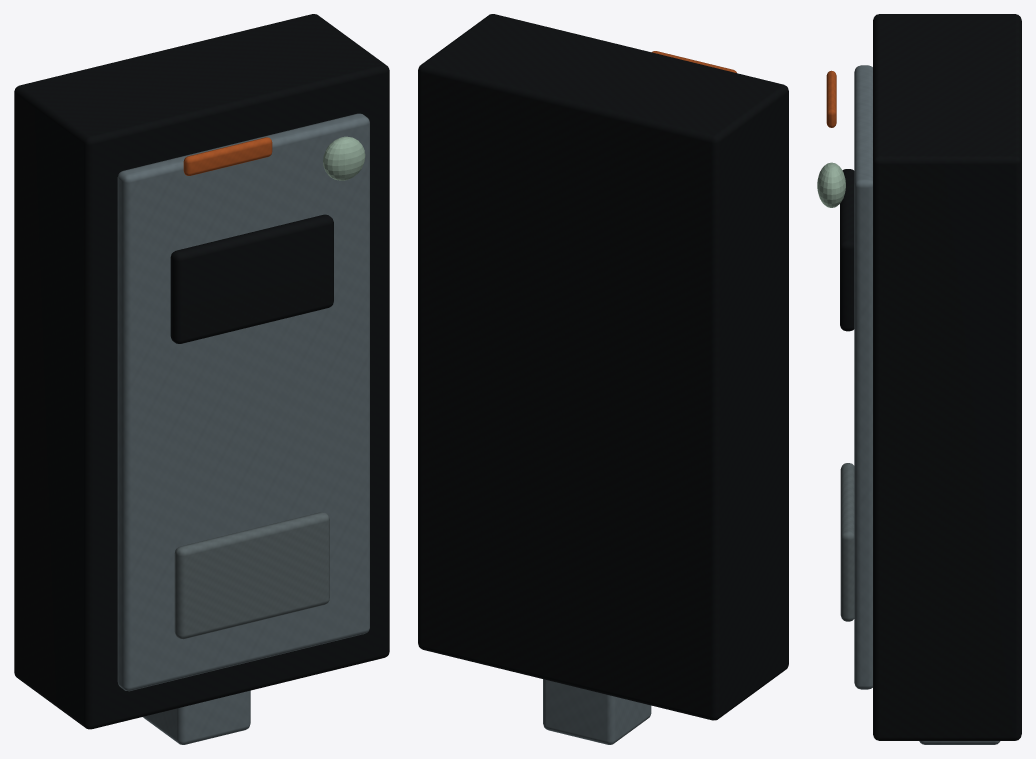
File: GasDetector.fbx
3 renders of one model, left to right at view 1: azimuth 30°, elevation 25°; view 2: azimuth 150°, elevation 25°; view 3: azimuth 270°, elevation 25°, orthographic.
Visible parts, largest first — view 1: GasDetector_Mesh; view 2: GasDetector_Mesh; view 3: GasDetector_Mesh.
Part boxes in pixels (x1,y1,x2,y2): GasDetector_Mesh: (14,14,389,744); GasDetector_Mesh: (418,14,788,744); GasDetector_Mesh: (817,14,1021,744).
Size of the model in its own units: 42 by 86 by 24.75.
